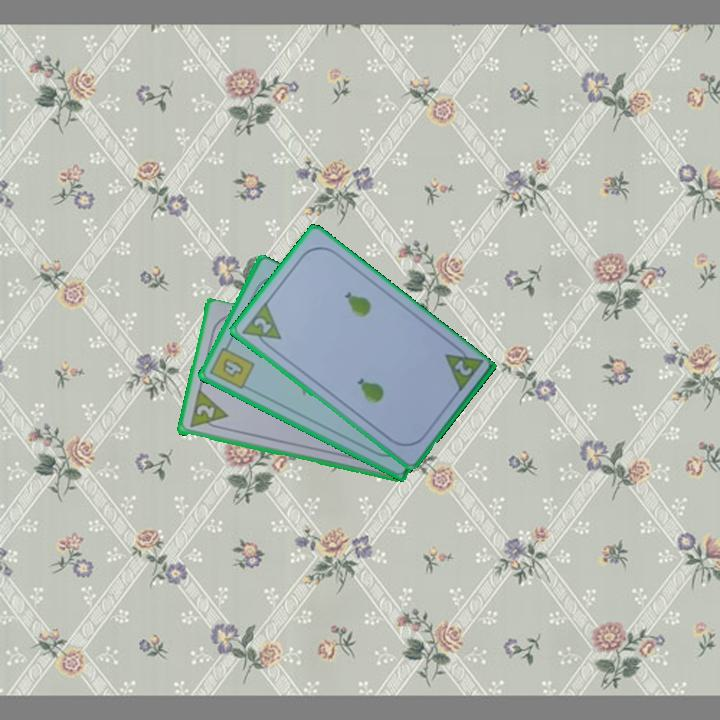2p: (249, 314, 274, 337), (450, 356, 475, 379), (192, 401, 217, 422)
4b: (206, 339, 257, 393)
